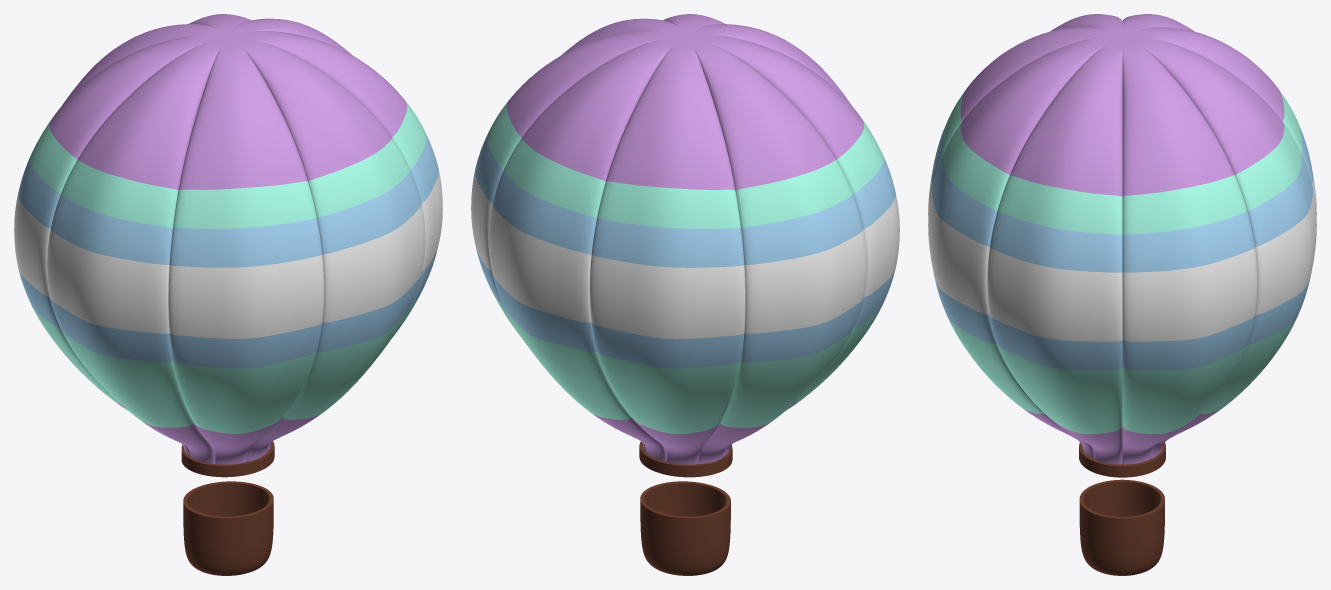
Rendered from hotbaloon.fbx.
3 views of the same model, side by side, from view 1: azimuth 30°, elevation 25°; view 2: azimuth 150°, elevation 25°; view 3: azimuth 270°, elevation 25° (orthographic).
Parts seen in each view (by area): view 1: Esfera, Círculo, Círculo.001; view 2: Esfera, Círculo, Círculo.001; view 3: Esfera, Círculo, Círculo.001.
Boxes of the visible parts, bbox=[...] form: Esfera: bbox=[14, 14, 442, 464]; Círculo: bbox=[183, 481, 273, 575]; Círculo.001: bbox=[181, 441, 274, 477]; Esfera: bbox=[471, 14, 899, 464]; Círculo: bbox=[640, 481, 730, 575]; Círculo.001: bbox=[639, 441, 732, 477]; Esfera: bbox=[928, 14, 1316, 464]; Círculo: bbox=[1079, 479, 1164, 575]; Círculo.001: bbox=[1079, 442, 1165, 477].
Bounding box in the file's own units: 8.83 × 12.07 × 8.11.
